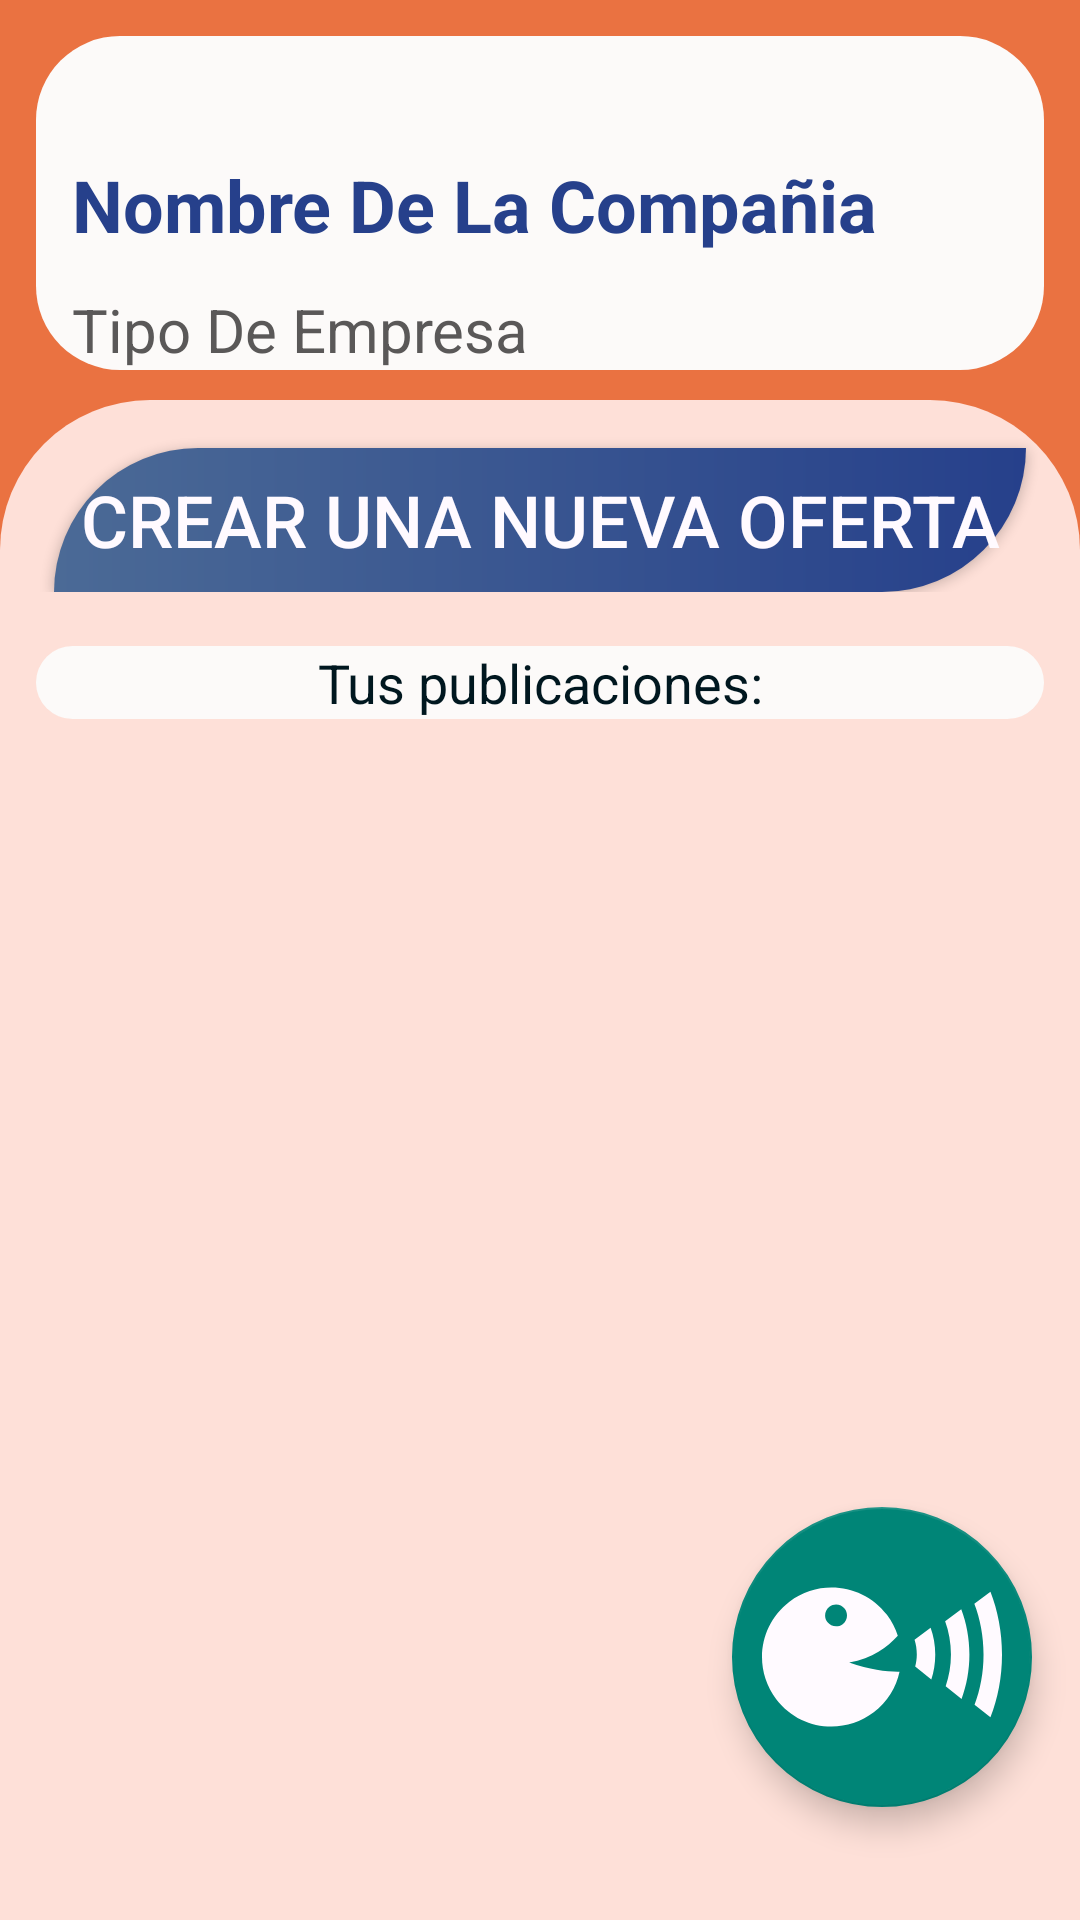

Icon bounding boxes for this 1080px x 1920px phone screenshot, format (x1, y1, x2, y2):
Activar comandos de voz: (732, 1507, 1032, 1807)
